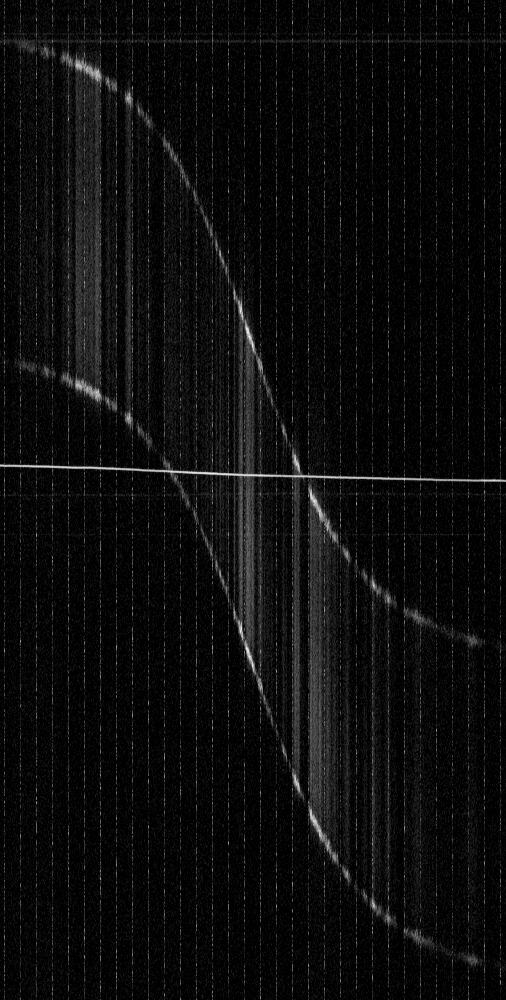signal: (0, 0, 505, 999)
